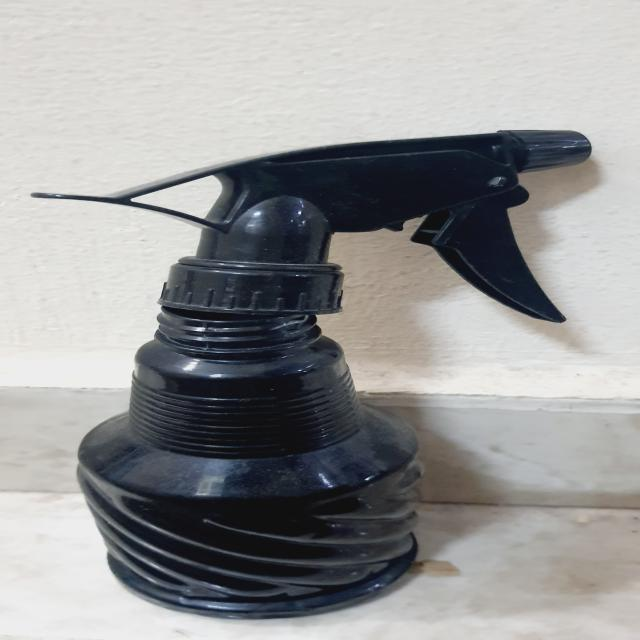plastic: (30, 128, 591, 619)
